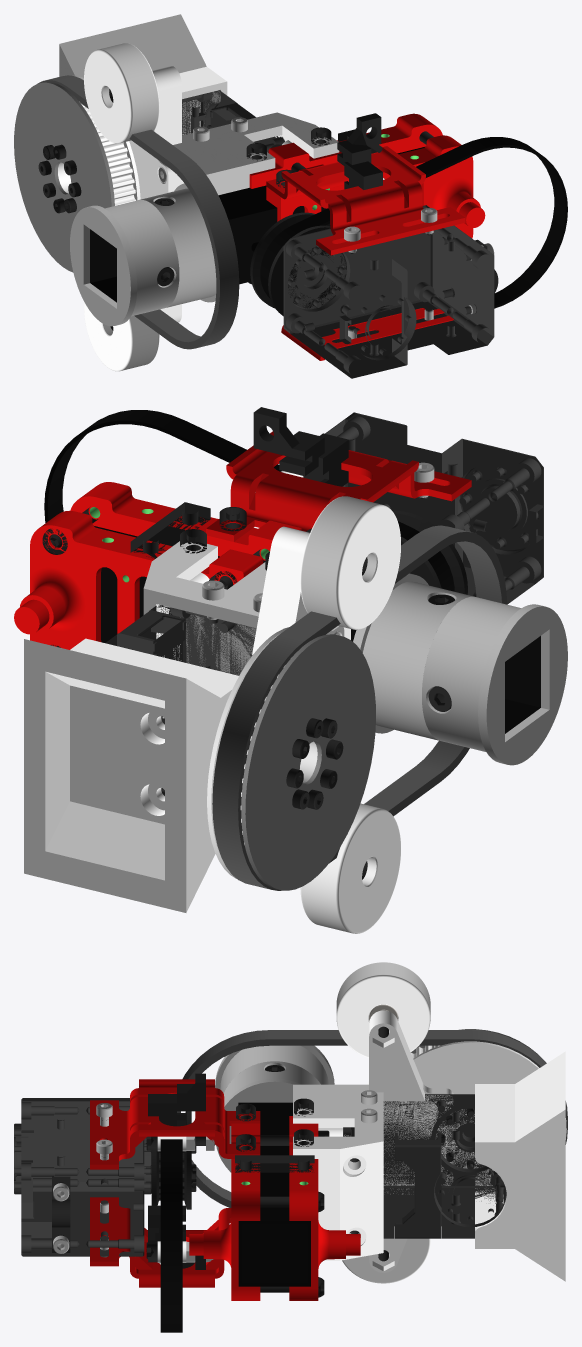
The model's file is male4.dae.
3 views of the same model, one above another, from view 1: azimuth 30°, elevation 25°; view 2: azimuth 150°, elevation 25°; view 3: azimuth 270°, elevation 25° (orthographic). The views are drawn at different scales.
Parts seen in each view (by area): view 1: node52, node68, node66, node59, node64, node63, node72, node70, node57, node75, node62, node67 (+10 smaller); view 2: node63, node68, node66, node52, node64, node77, node72, node59, node67, node73, node70, node53 (+9 smaller); view 3: node63, node52, node53, node70, node62, node71, node59, node72, node69, node64, node57, node58 (+13 smaller).
Boxes of the visible parts, box(x1,y1,x2,y2) form: node52: box(283, 205, 494, 378); node68: box(14, 82, 114, 272); node66: box(70, 200, 179, 326); node59: box(266, 146, 465, 255); node64: box(37, 75, 239, 349); node63: box(59, 14, 227, 134); node72: box(84, 43, 159, 143); node70: box(173, 112, 339, 195); node57: box(260, 137, 567, 308); node75: box(266, 135, 485, 238); node62: box(90, 147, 424, 302); node67: box(140, 183, 216, 307); node63: box(24, 638, 238, 912); node68: box(241, 634, 375, 890); node66: box(422, 596, 567, 765); node52: box(325, 412, 543, 604); node64: box(212, 525, 507, 890); node77: box(14, 510, 263, 649); node72: box(300, 496, 400, 629); node59: box(206, 431, 471, 541); node67: box(353, 573, 473, 740); node73: box(300, 803, 400, 933); node70: box(143, 541, 350, 718); node53: box(105, 605, 256, 795); node63: box(475, 1051, 565, 1281); node52: box(14, 1098, 151, 1256); node53: box(343, 1094, 506, 1238); node70: box(293, 1084, 383, 1260); node62: box(238, 1102, 310, 1286); node71: box(344, 1010, 453, 1272); node59: box(90, 1079, 260, 1169); node72: box(336, 962, 430, 1057); node69: box(411, 1041, 566, 1168); node64: box(177, 1030, 567, 1207); node57: box(160, 1139, 182, 1332); node58: box(90, 1197, 231, 1287).
Size of the model in its own units: 0.1278 by 0.094 by 0.1529.
